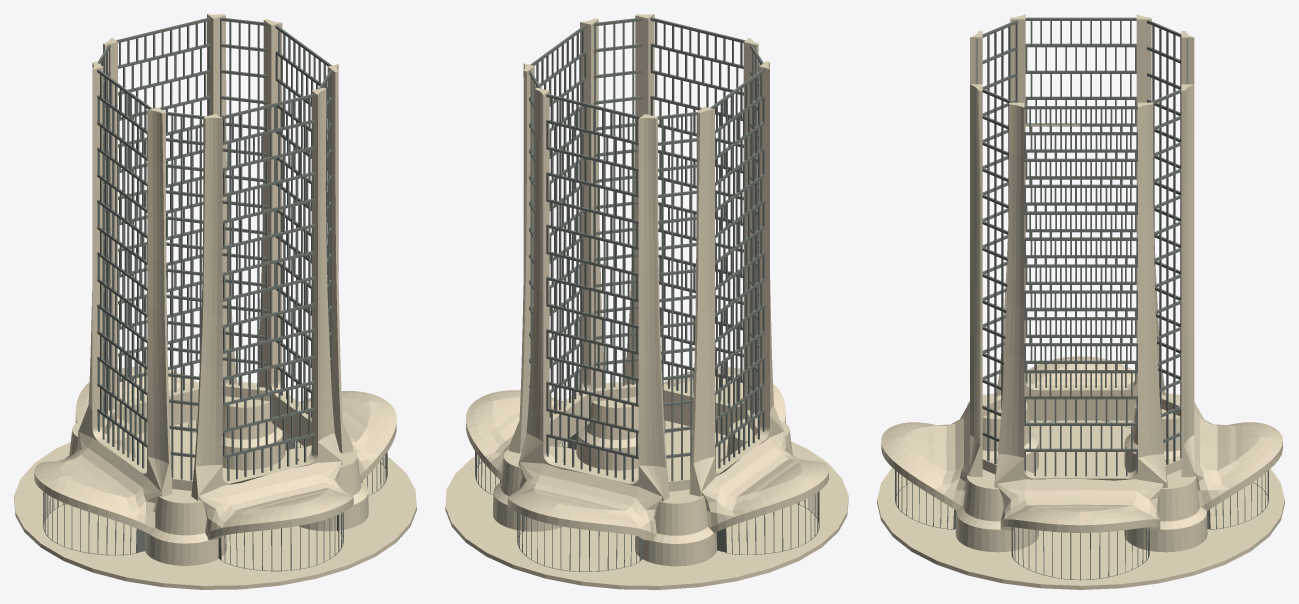
The model's file is stamfordtower1.glb.
3 views of the same model, side by side, from view 1: azimuth 30°, elevation 25°; view 2: azimuth 150°, elevation 25°; view 3: azimuth 270°, elevation 25° (orthographic).
Visible parts, largest first — view 1: q1, q2, Circle, Cube.004, q3, BezierCircle.002, Cube.006, BezierCircle.008, cornerwindows, Cylinder.001, Cylinder, BezierCircle.005 (+3 smaller); view 2: q3, q2, Circle, Cube.004, q1, BezierCircle.011, cornerwindows, BezierCircle.008, Cube.006, Cylinder, Cylinder.001, BezierCircle.005 (+3 smaller); view 3: Cube.004, Circle, q2, cornerwindows, BezierCircle.005, q3, BezierCircle.011, BezierCircle.002, q1, Cylinder, Cylinder.001, Cube.006 (+4 smaller).
Part boxes in pixels (<box>): q1: <box>191,87,342,500</box>; q2: <box>78,61,172,496</box>; Circle: <box>14,420,416,589</box>; Cube.004: <box>257,19,353,453</box>; q3: <box>103,14,237,434</box>; BezierCircle.002: <box>199,461,353,540</box>; Cube.006: <box>97,45,204,480</box>; BezierCircle.008: <box>34,432,161,533</box>; cornerwindows: <box>220,17,331,387</box>; Cylinder.001: <box>145,445,368,565</box>; Cylinder: <box>65,382,285,470</box>; BezierCircle.005: <box>299,391,396,481</box>; q3: <box>518,87,669,501</box>; q2: <box>689,61,784,496</box>; Circle: <box>445,420,848,589</box>; Cube.004: <box>509,18,603,453</box>; q1: <box>624,14,758,434</box>; BezierCircle.011: <box>507,462,662,541</box>; cornerwindows: <box>529,18,642,388</box>; BezierCircle.008: <box>701,431,828,533</box>; Cube.006: <box>656,45,763,481</box>; Cylinder: <box>493,445,716,566</box>; Cylinder.001: <box>576,382,792,470</box>; BezierCircle.005: <box>466,390,563,480</box>; Cube.004: <box>994,102,1167,487</box>; Circle: <box>877,420,1284,589</box>; q2: <box>996,14,1165,420</box>; cornerwindows: <box>982,89,1181,464</box>; BezierCircle.005: <box>997,479,1163,532</box>; q3: <box>1181,31,1194,476</box>; BezierCircle.011: <box>1194,402,1282,510</box>; BezierCircle.002: <box>881,402,969,510</box>; q1: <box>970,31,982,476</box>; Cylinder: <box>1124,393,1207,552</box>; Cylinder.001: <box>955,393,1038,552</box>; Cube.006: <box>982,20,1181,379</box>.
Size of the model in its own units: 10.76 by 12.89 by 10.76.
